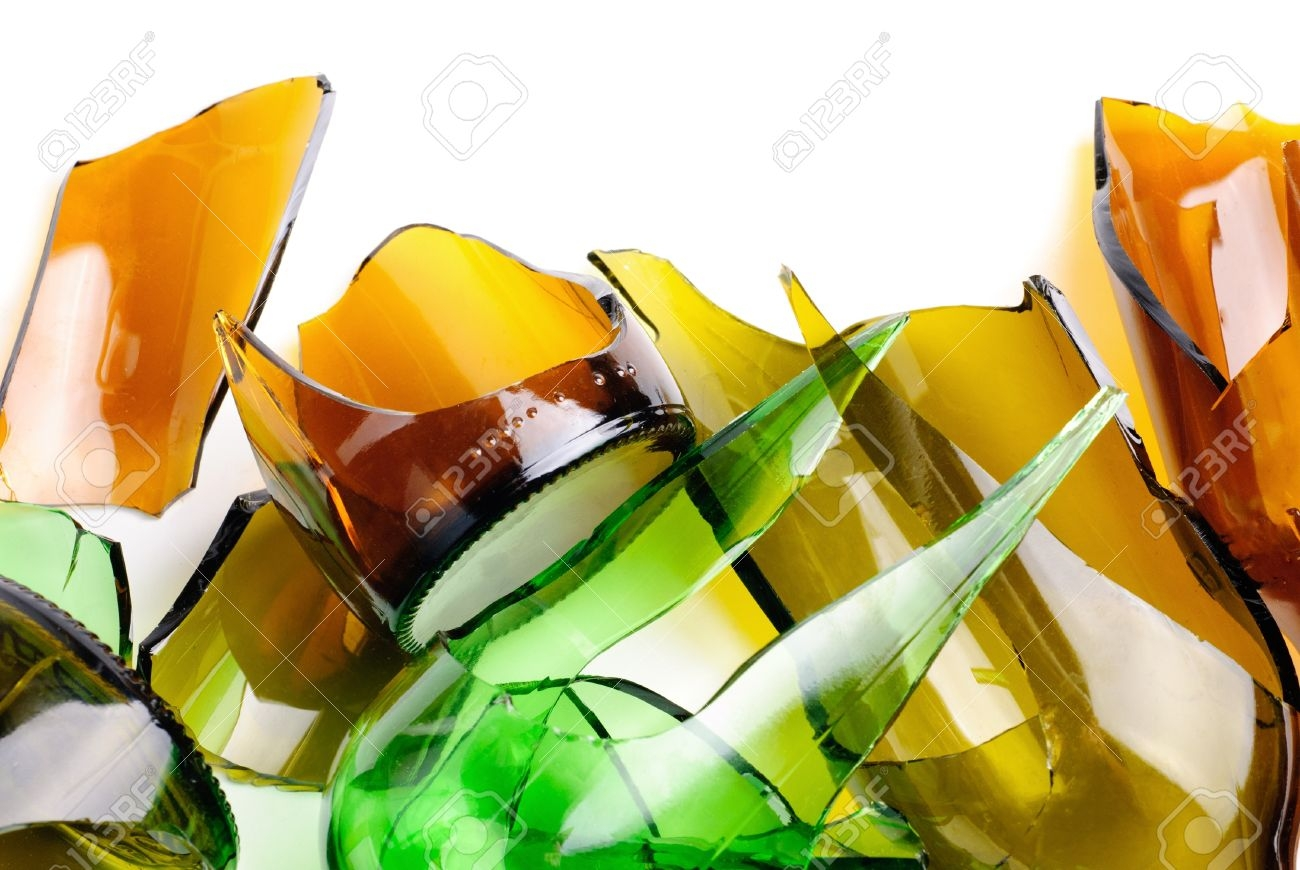glass: (319, 295, 1139, 870), (580, 239, 1300, 868), (186, 223, 682, 646), (5, 71, 343, 528), (1082, 82, 1300, 633), (123, 487, 410, 791), (2, 562, 267, 870)
